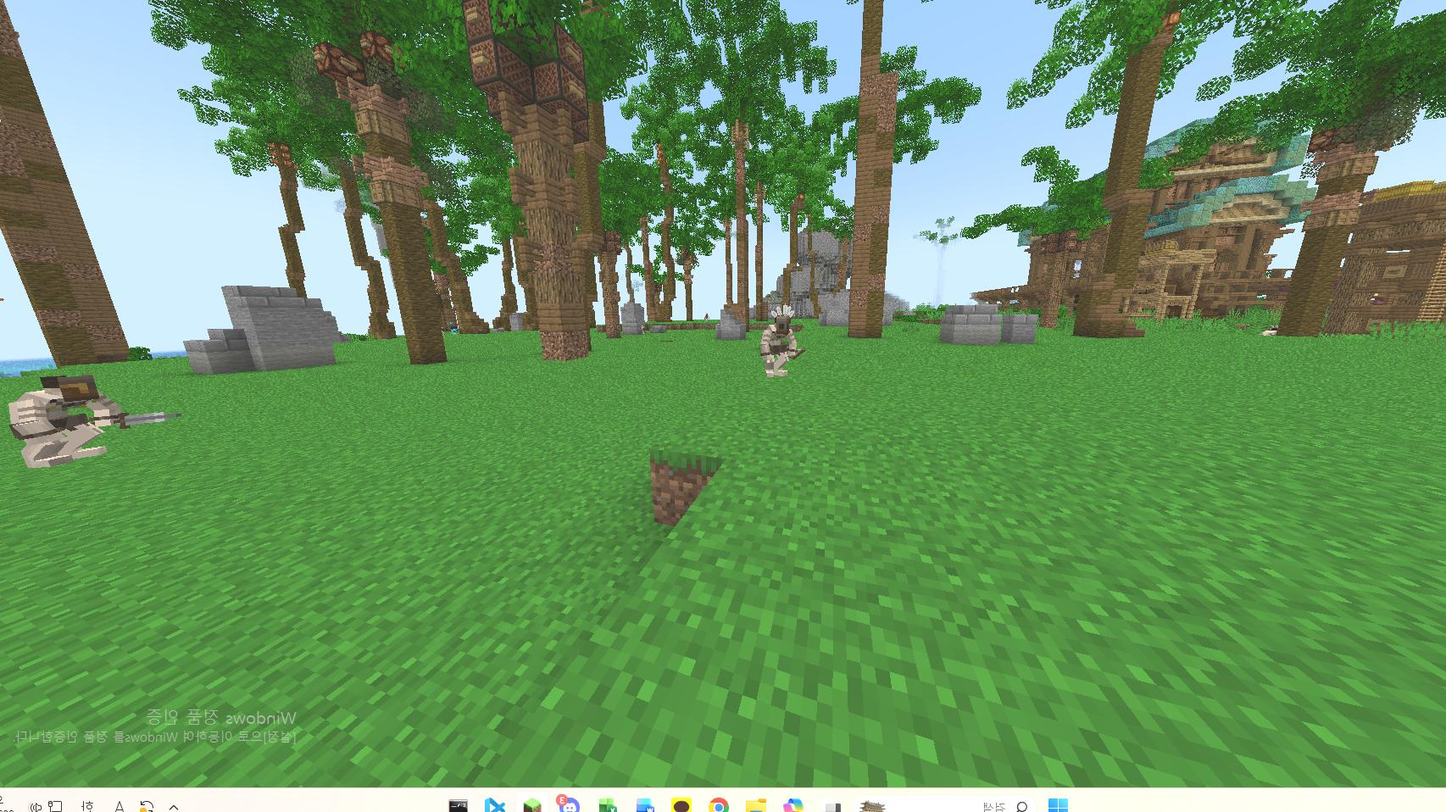bow_indian: (749, 292, 811, 383)
